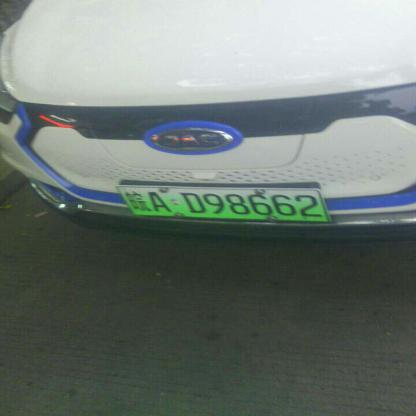lp: (118, 187, 330, 220)
